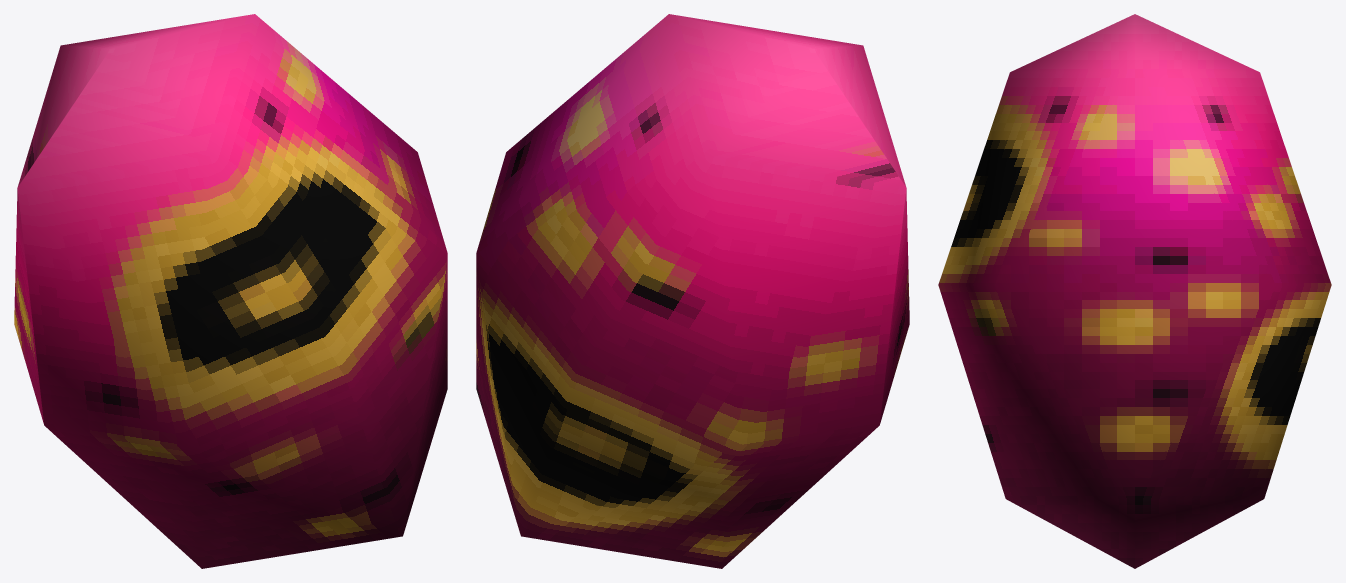
Rendered from PinkBean.fbx.
3 renders of one model, left to right at view 1: azimuth 30°, elevation 25°; view 2: azimuth 150°, elevation 25°; view 3: azimuth 270°, elevation 25°, orthographic. The views are drawn at different scales.
Visible parts, largest first — view 1: material_0; view 2: material_0; view 3: material_0.
Boxes of the visible parts, x1,y1,x2,y2 form: material_0: (14, 14, 447, 568); material_0: (476, 14, 909, 568); material_0: (938, 14, 1331, 568).
Bounding box in the file's own units: 979 × 1200 × 938.
